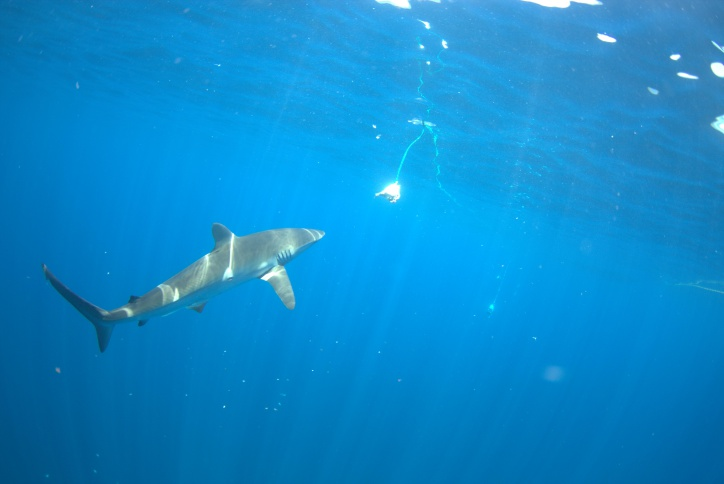Sedoso: (36, 219, 330, 366)
